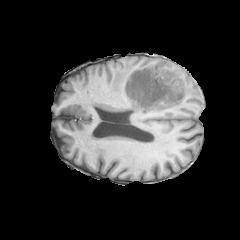glioma: (110, 60, 197, 114)
